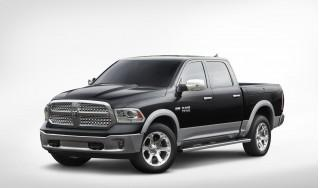ram: (69, 109, 82, 119)
